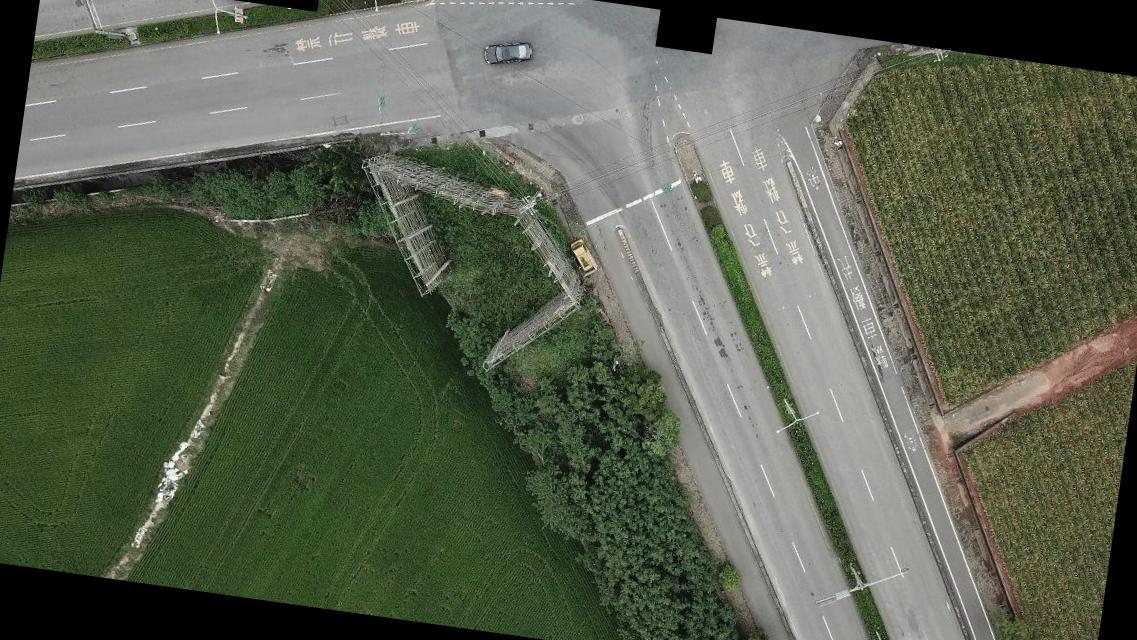vehicle: (480, 36, 536, 72), (568, 239, 598, 277)
